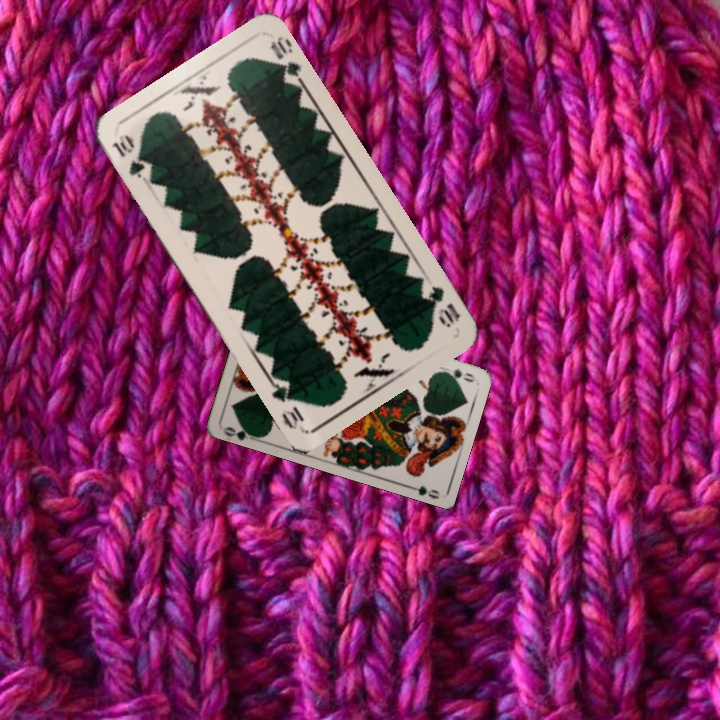G10: (107, 130, 149, 184), (421, 281, 463, 331)
GO: (220, 420, 260, 444), (436, 364, 477, 381)
